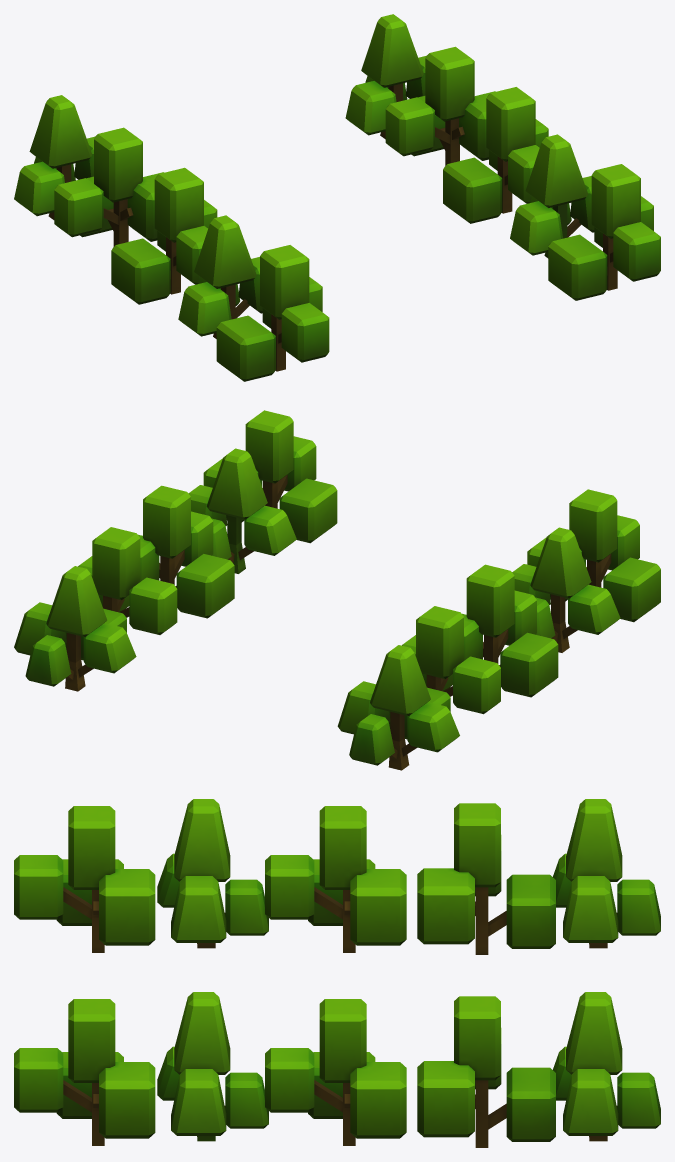
Rendered from forest_side.FBX.
3 renders of one model, top to bottom at view 1: azimuth 30°, elevation 25°; view 2: azimuth 150°, elevation 25°; view 3: azimuth 270°, elevation 25°, orthographic. The views are drawn at different scales.
Visible parts, largest first — view 1: forest_side; view 2: forest_side; view 3: forest_side.
Boxes of the visible parts, x1=… form: forest_side: x1=14, y1=14, x2=660, y2=381; forest_side: x1=14, y1=410, x2=660, y2=770; forest_side: x1=14, y1=799, x2=660, y2=1147.
Size of the model in its own units: 18426 by 4796 by 19840.
